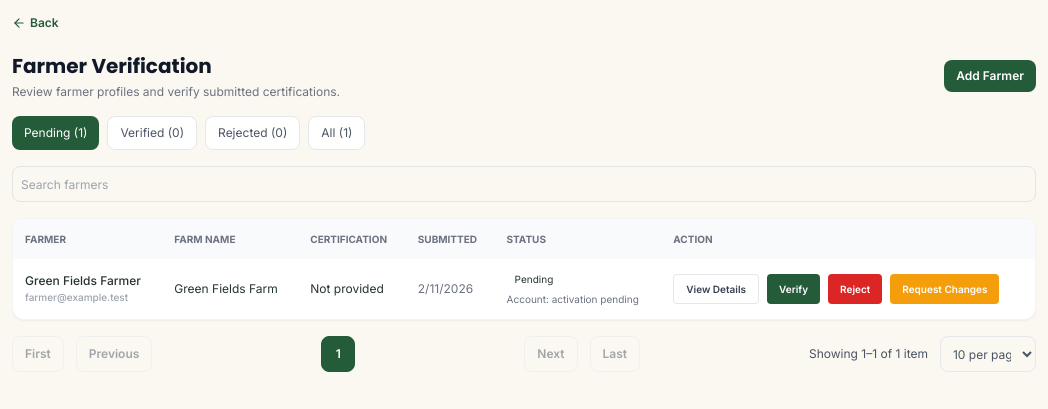
Test: Admin farmer management › Farmer actions › verifies a farmer and updates the list
Expected: the text "Green Fields Farmer" is shown, x1=25 y1=273 x2=141 y2=288
Click the button "Verify" at (794, 289), box x1=767 y1=274 x2=820 y2=304
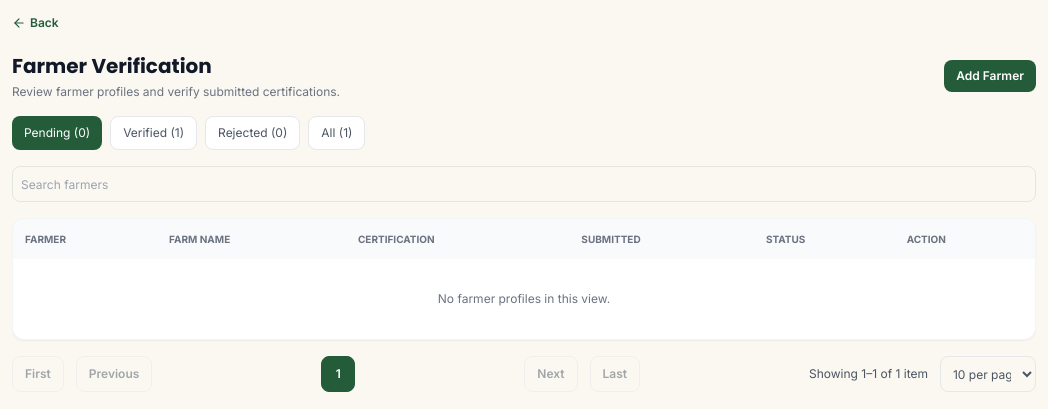
Click the button "Verified (1)" at (154, 133), box x1=110 y1=116 x2=197 y2=150
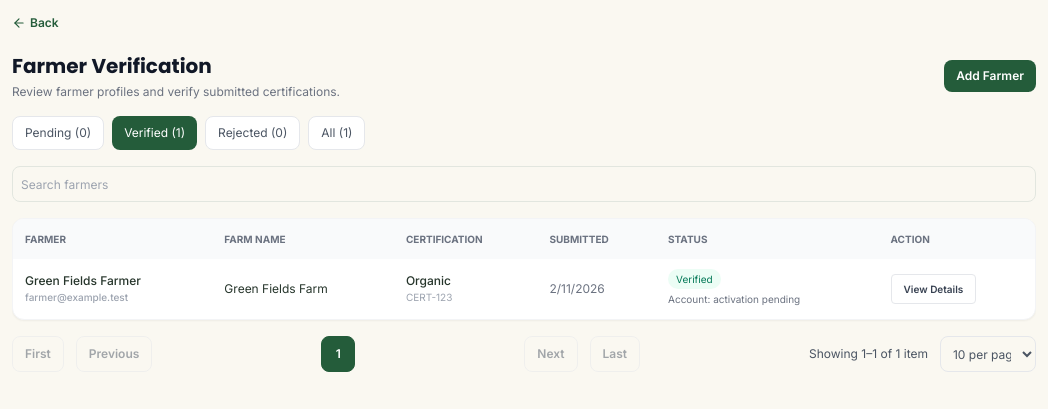
Now the text "Organic" is shown, box x1=406 y1=273 x2=451 y2=288
Now the text "CERT-123" is shown, box x1=406 y1=291 x2=452 y2=303
